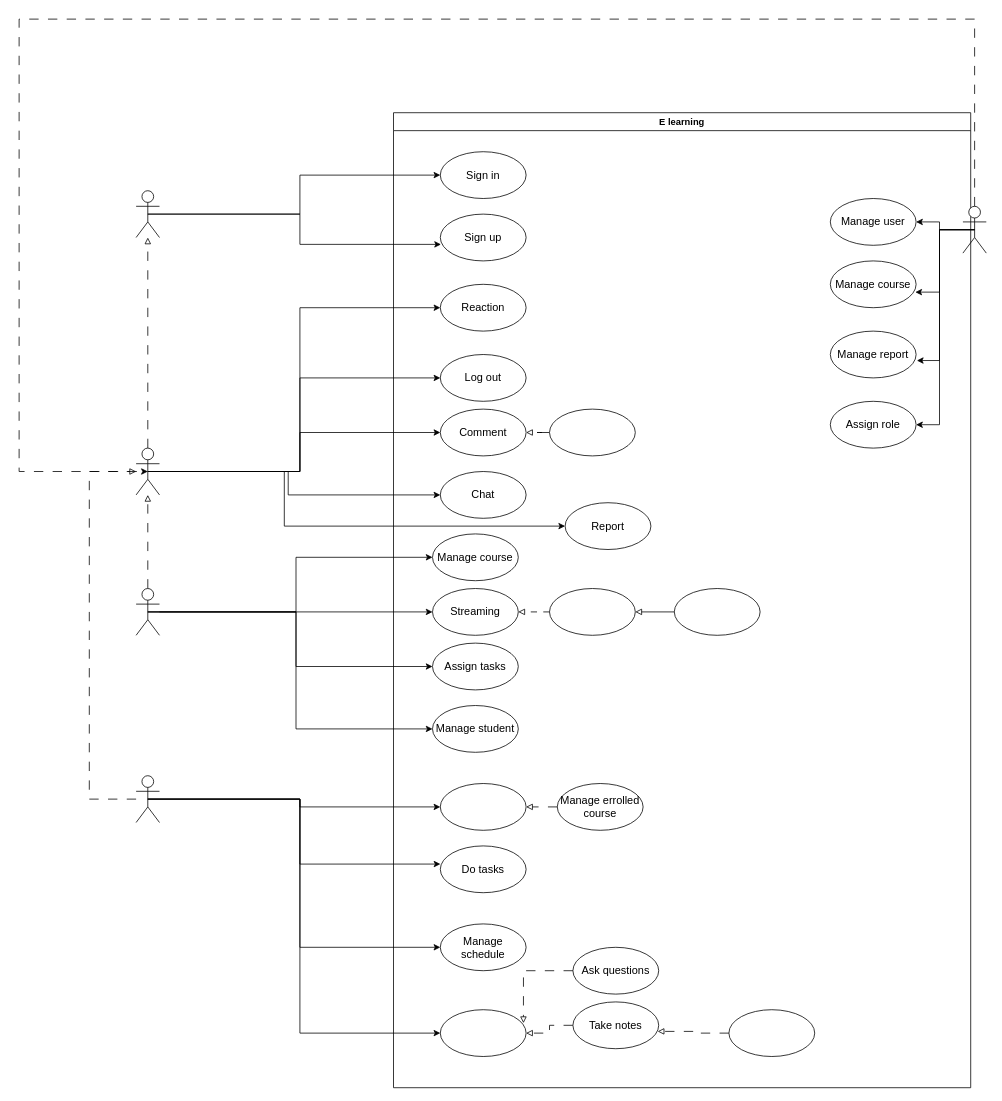
The diagram is 1002 pixels wide and 1101 high, and some of its shapes have lost their labels. Each missing label, with the centre of its shape:
"Admin" goes at pixel 974 229.
"Enroll courses" goes at pixel 483 806.
"Manage comments" goes at pixel 592 432.
"Manage notes" goes at pixel 771 1033.
"Manage records" goes at pixel 717 611.
"Record" goes at pixel 592 611.
"Student" goes at pixel 147 799.
"Teacher" goes at pixel 147 611.
"Unregistered user" goes at pixel 147 214.
"User" goes at pixel 147 471.
"WAtch video" goes at pixel 483 1033.
